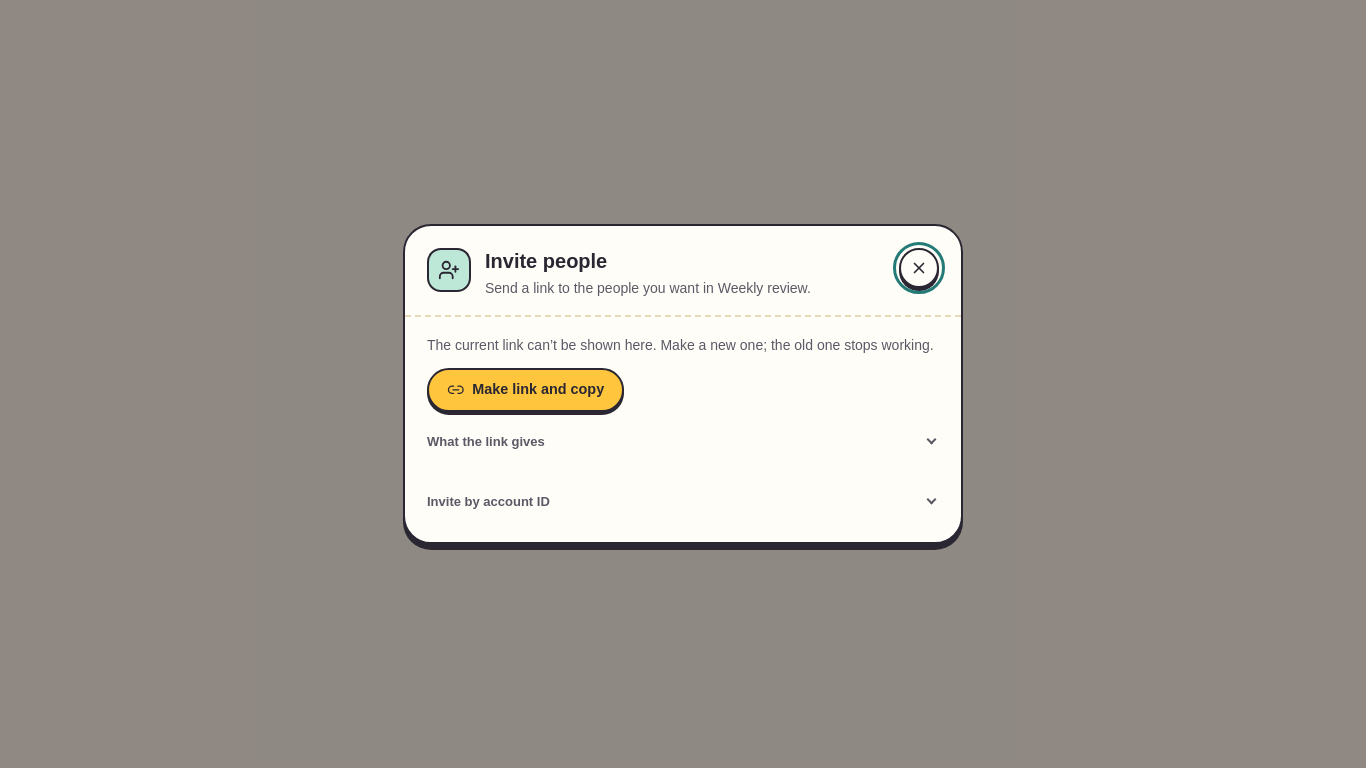
Scenario: 邀请人 › 看不到现在那条时让换一条；停用以后谁都用不了
Expected: the text "can’t be shown here" is shown, [427,337,934,353]
Click the button "Make link and copy". click: {"x": 525, "y": 390}
box: [427,368,624,412]
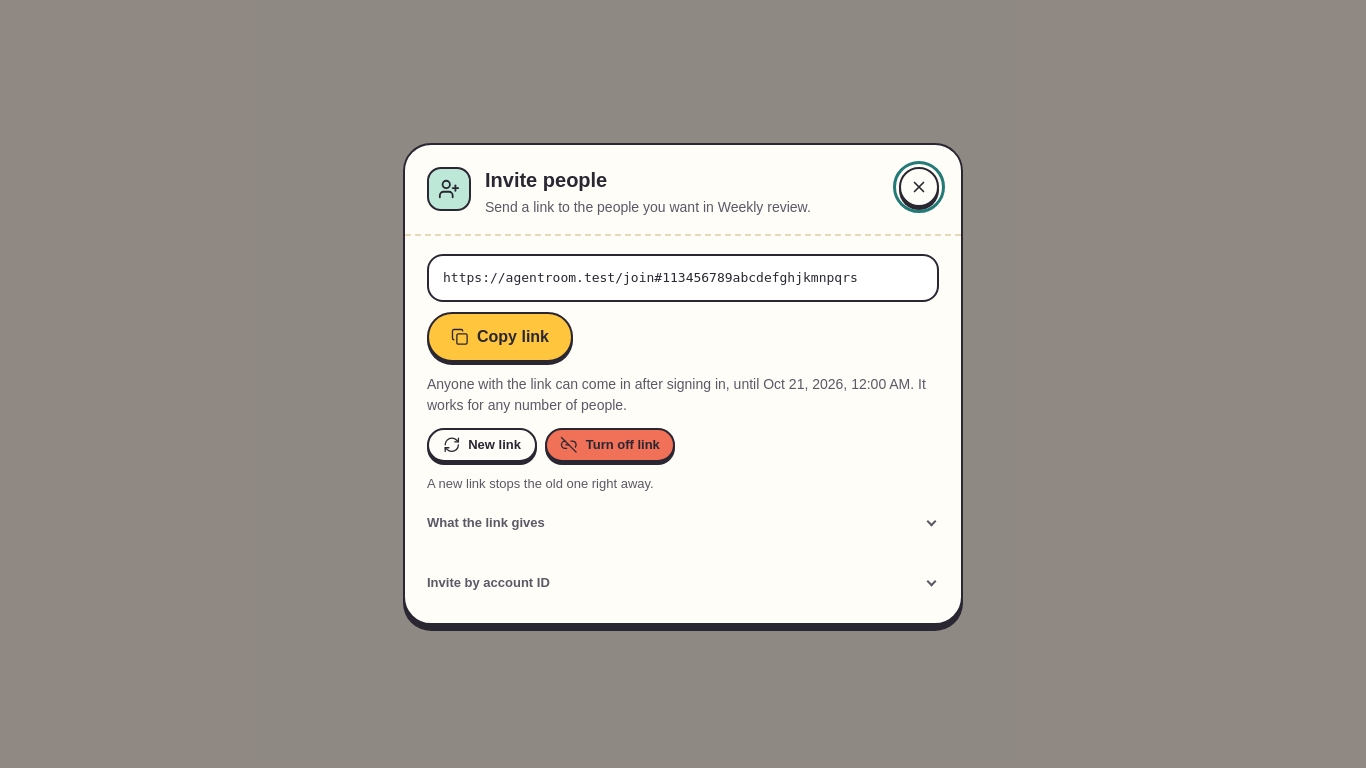
Click the button "Turn off link". click: {"x": 610, "y": 445}
box: [544,428,675,462]
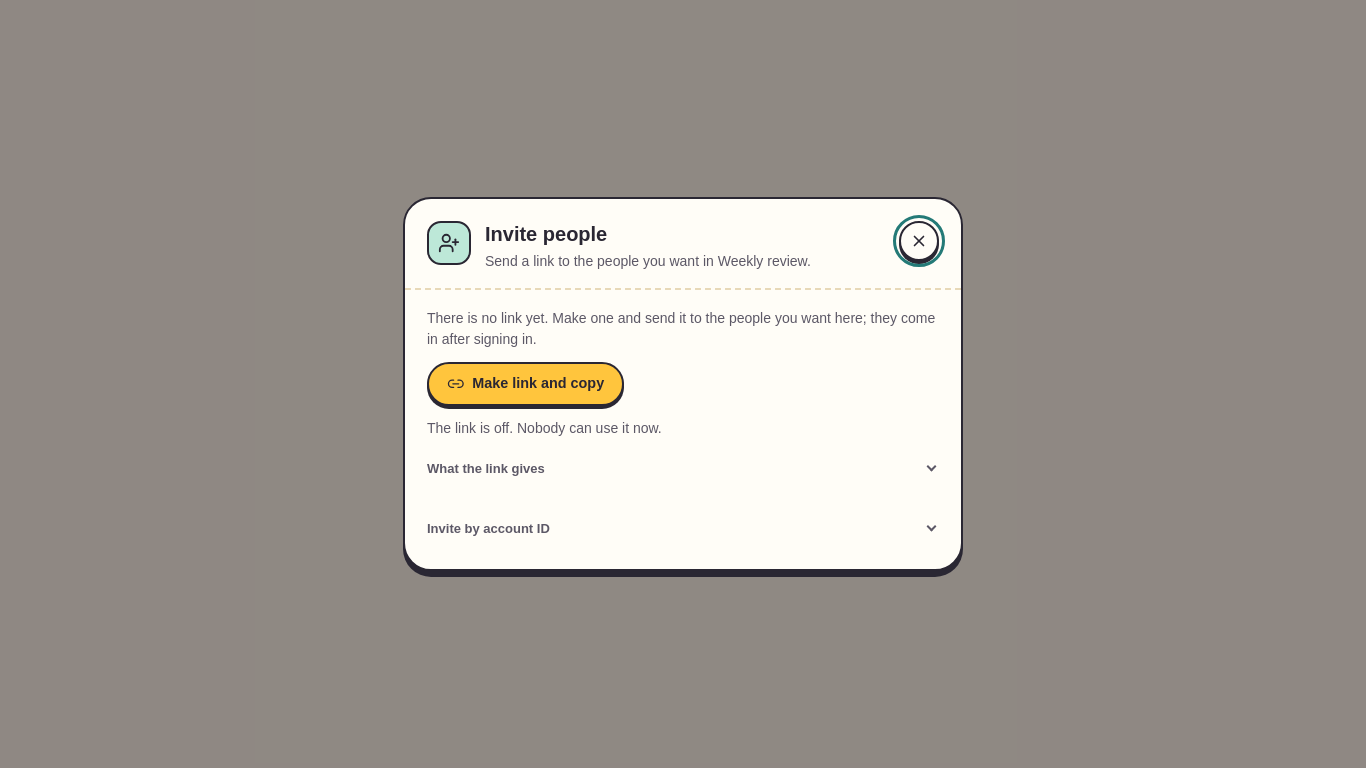
Now the text "The link is off. Nobody can use it now." is shown, box [427,420,662,436]
